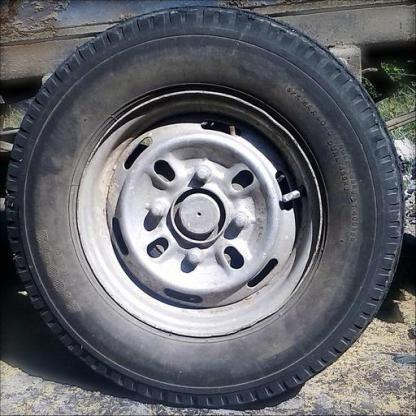Tire: (0, 7, 406, 410)
